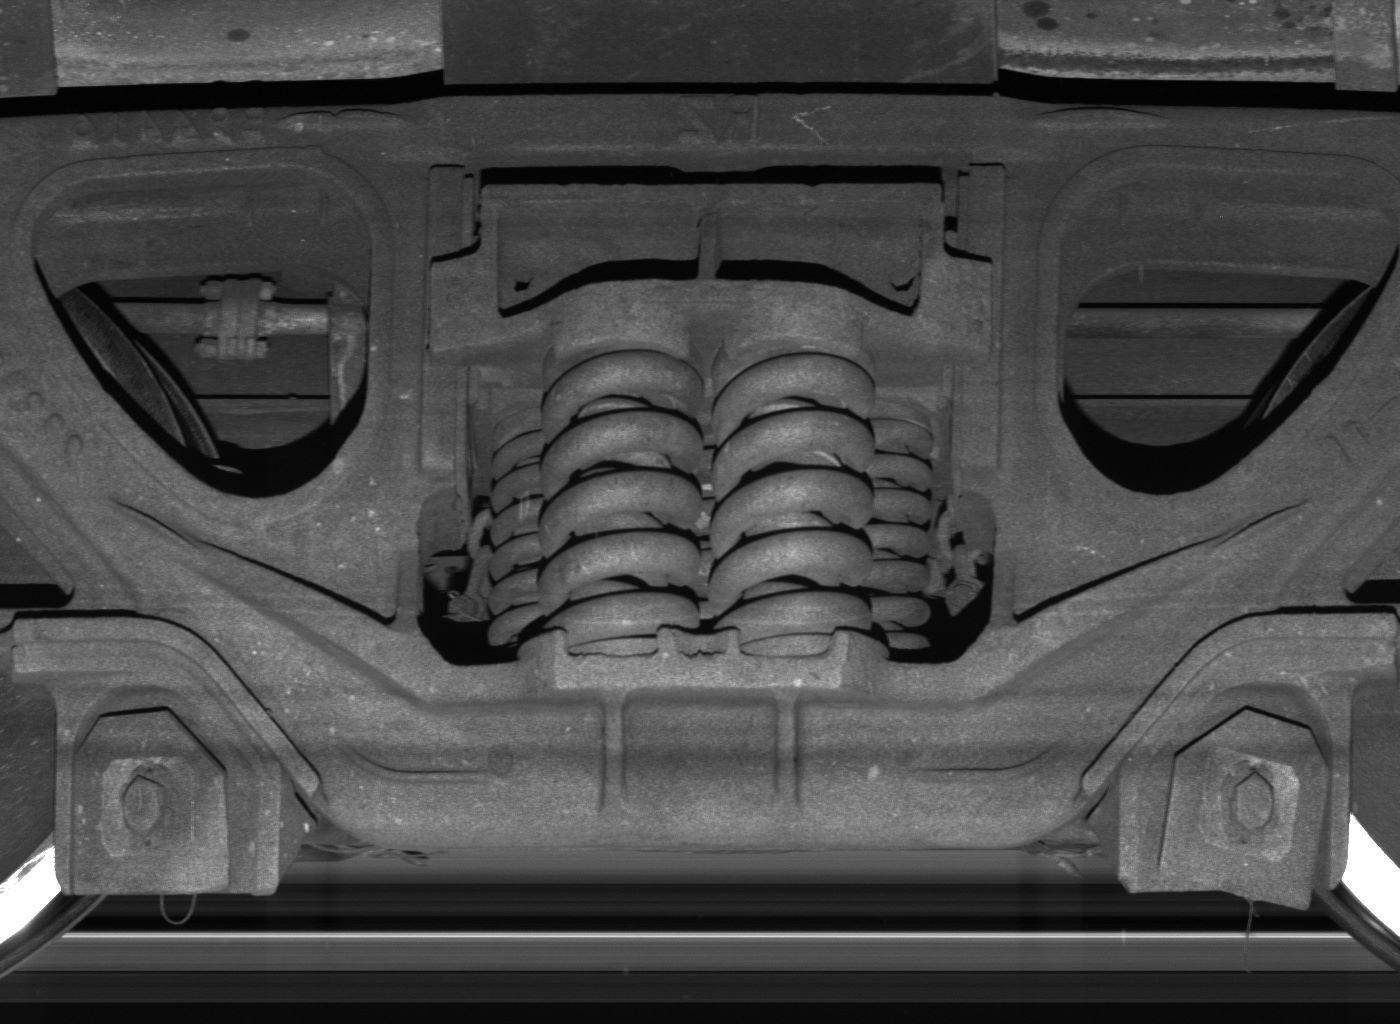Locking plate: (1120, 669, 1352, 913)
normal: (55, 673, 279, 898)
